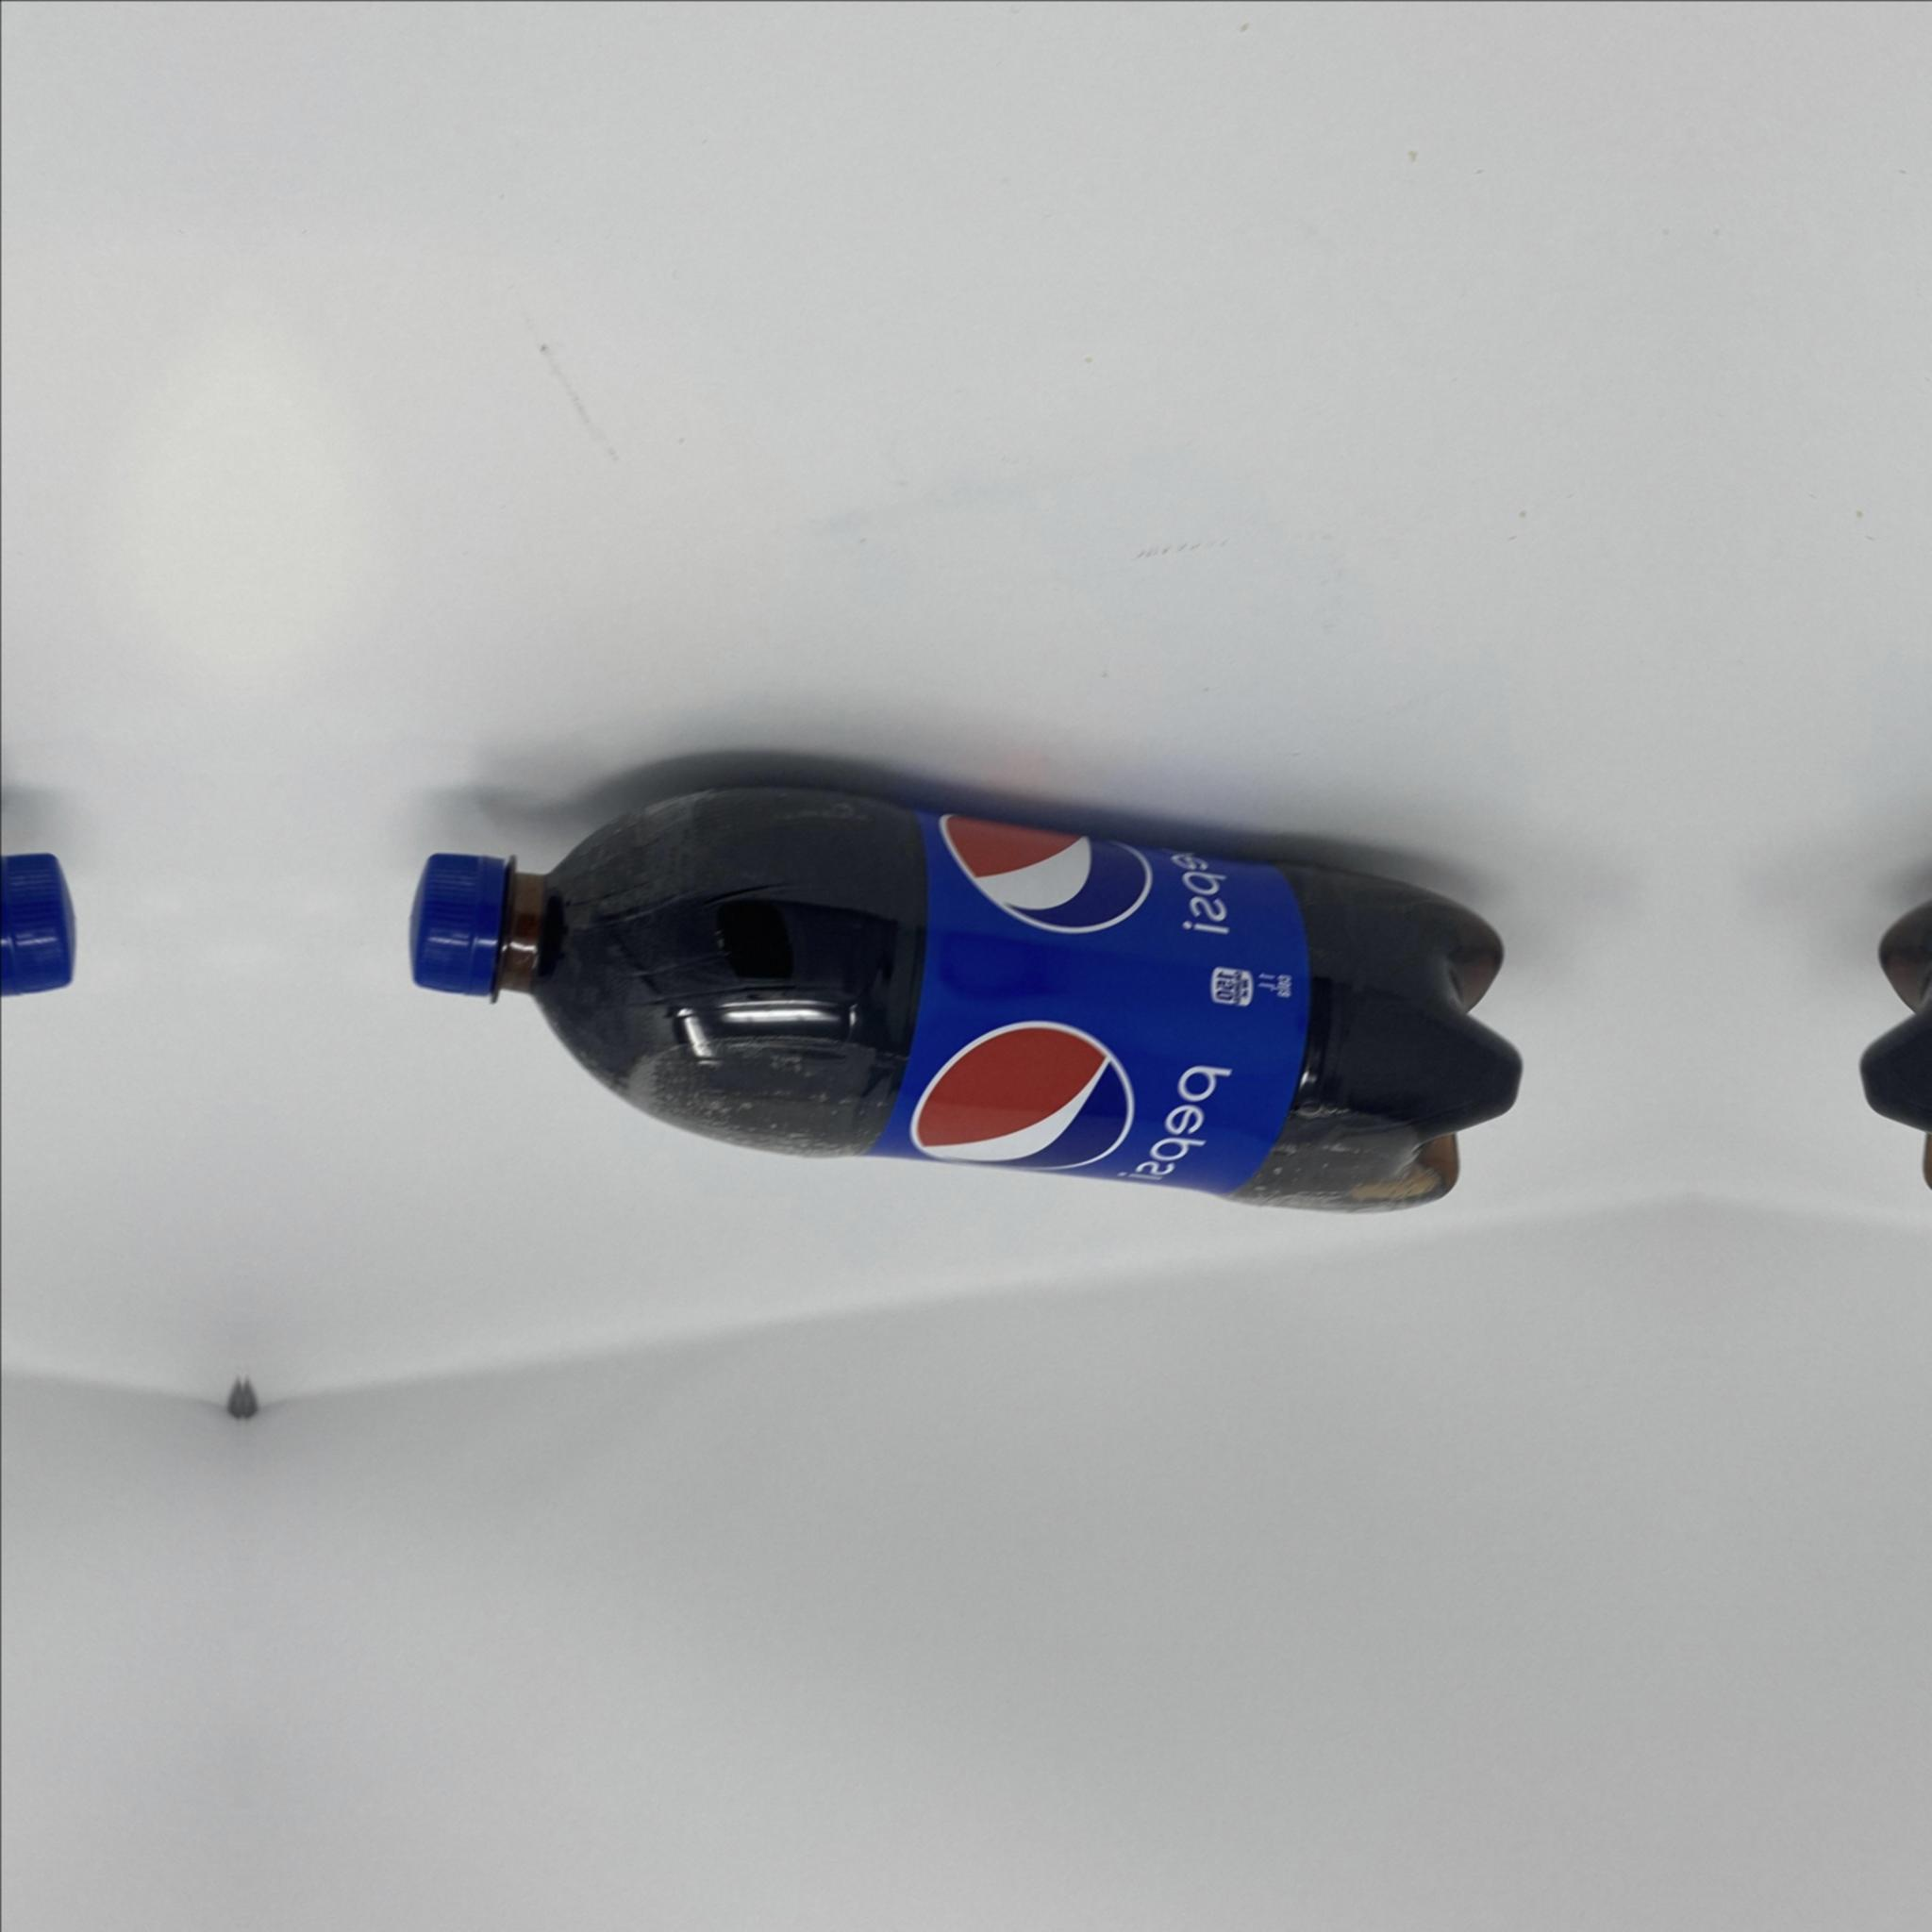PET: (407, 780, 1523, 1217)
pepsi: (407, 780, 1523, 1217)
plastic: (407, 780, 1523, 1217)
soft-drink: (407, 780, 1523, 1217)
